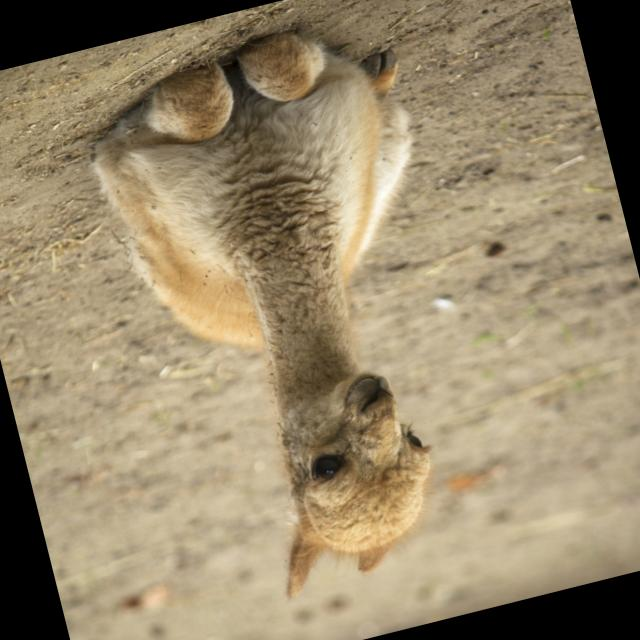alpaca: (75, 8, 522, 621)
